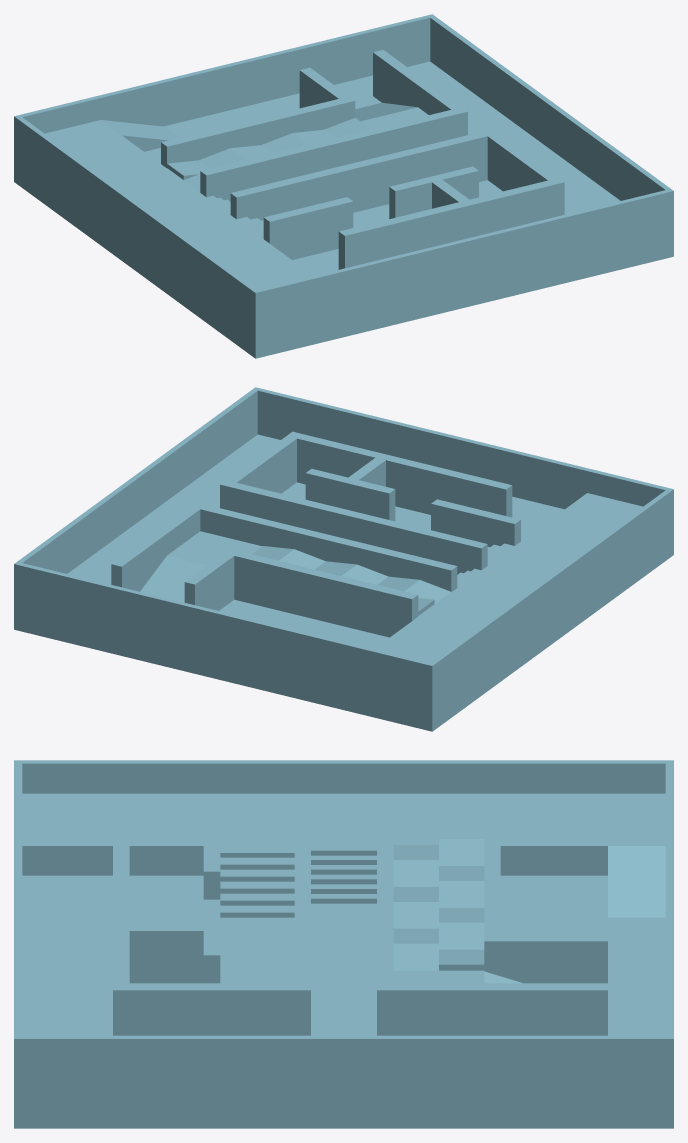
File: map.dae
3 renders of one model, top to bottom at view 1: azimuth 30°, elevation 25°; view 2: azimuth 150°, elevation 25°; view 3: azimuth 270°, elevation 25°, orthographic. The views are drawn at different scales.
Visible parts, largest first — view 1: CevreDuvar, Zemin, YuksekZemin, icduvar_002, icduvar_006, icduvar_000, icduvar_004, icduvar_007, icduvar_003, icduvar_001, icduvar_008, icduvar_005 (+5 smaller); view 2: CevreDuvar, Zemin, YuksekZemin, icduvar_004, icduvar_002, icduvar_006, icduvar_000, icduvar_003, icduvar_008, icduvar_007, icduvar_001, icduvar_005 (+4 smaller); view 3: CevreDuvar, Zemin, YuksekZemin, icduvar_003, icduvar_001, icduvar_005, UzunMerdiven, icduvar_009, Rampa, Merdiven, icduvar_000, icduvar_002 (+17 smaller).
Part boxes in pixels (x1=…): CevreDuvar: x1=14, y1=14, x2=673, y2=336; Zemin: x1=14, y1=61, x2=673, y2=358; YuksekZemin: x1=14, y1=120, x2=337, y2=336; icduvar_002: x1=230, y1=132, x2=487, y2=220; icduvar_006: x1=338, y1=180, x2=553, y2=269; icduvar_000: x1=200, y1=110, x2=457, y2=201; icduvar_004: x1=161, y1=96, x2=355, y2=168; icduvar_007: x1=263, y1=197, x2=353, y2=259; icduvar_003: x1=373, y1=50, x2=467, y2=137; icduvar_001: x1=482, y1=129, x2=564, y2=217; icduvar_008: x1=389, y1=166, x2=478, y2=218; icduvar_005: x1=299, y1=67, x2=349, y2=108; CevreDuvar: x1=14, y1=387, x2=673, y2=709; Zemin: x1=14, y1=434, x2=673, y2=731; YuksekZemin: x1=349, y1=493, x2=673, y2=708; icduvar_004: x1=227, y1=549, x2=418, y2=637; icduvar_002: x1=230, y1=483, x2=487, y2=574; icduvar_006: x1=297, y1=434, x2=512, y2=517; icduvar_000: x1=200, y1=505, x2=457, y2=592; icduvar_003: x1=111, y1=502, x2=205, y2=591; icduvar_008: x1=305, y1=468, x2=395, y2=521; icduvar_007: x1=431, y1=499, x2=520, y2=546; icduvar_001: x1=220, y1=431, x2=302, y2=510; icduvar_005: x1=184, y1=551, x2=236, y2=610; CevreDuvar: x1=14, y1=760, x2=673, y2=1098; Zemin: x1=14, y1=875, x2=673, y2=1128; YuksekZemin: x1=22, y1=793, x2=665, y2=875; icduvar_003: x1=377, y1=983, x2=607, y2=1035; icduvar_001: x1=113, y1=983, x2=310, y2=1035; icduvar_005: x1=492, y1=934, x2=607, y2=983; UzunMerdiven: x1=220, y1=846, x2=294, y2=917; icduvar_009: x1=129, y1=924, x2=203, y2=983; Rampa: x1=608, y1=846, x2=665, y2=917; Merdiven: x1=311, y1=846, x2=376, y2=903; icduvar_000: x1=377, y1=816, x2=393, y2=983; icduvar_002: x1=294, y1=816, x2=310, y2=983.
Size of the model in its own units: 40 by 40 by 6.
